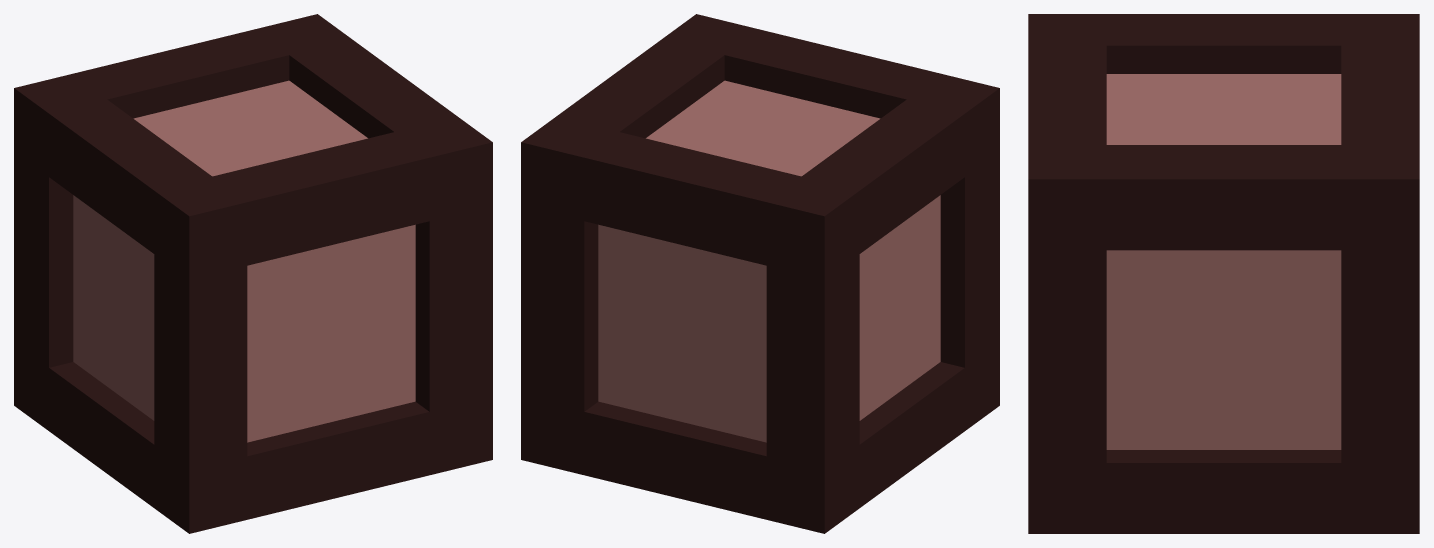
File: ClosedBox.fbx
The picture shows the model from 3 angles, left to right: view 1: azimuth 30°, elevation 25°; view 2: azimuth 150°, elevation 25°; view 3: azimuth 270°, elevation 25°; orthographic projection. The views are drawn at different scales.
Visible parts, largest first — view 1: ClosedBox; view 2: ClosedBox; view 3: ClosedBox.
Part boxes in pixels (x1=…): ClosedBox: x1=14, y1=14, x2=492, y2=533; ClosedBox: x1=521, y1=14, x2=999, y2=533; ClosedBox: x1=1028, y1=14, x2=1419, y2=533.
Size of the model in its own units: 125 by 125 by 125.
